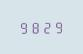eight: (29, 20, 39, 34)
nine: (18, 20, 28, 34), (51, 19, 61, 33)
two: (40, 20, 50, 33)
